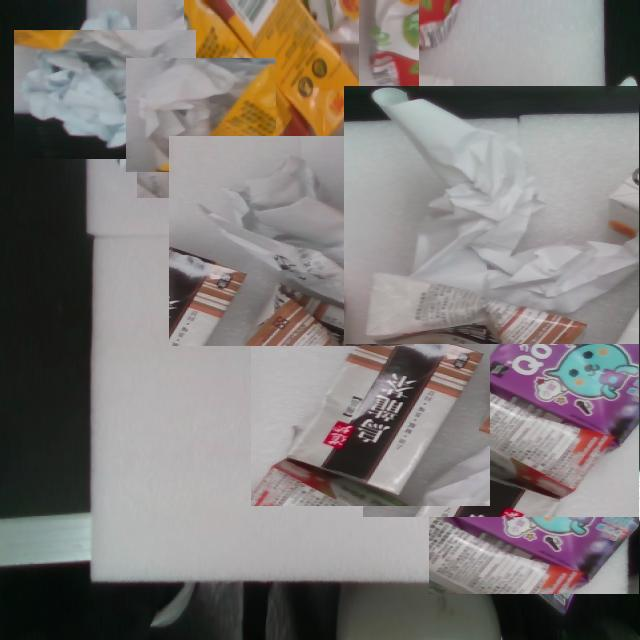juicebox: (251, 277, 490, 559), (364, 326, 640, 541), (113, 0, 365, 199), (430, 401, 640, 603), (270, 102, 529, 256), (355, 0, 419, 139)
paper: (288, 58, 640, 364), (169, 95, 470, 371), (3, 29, 196, 167), (123, 58, 276, 175)
